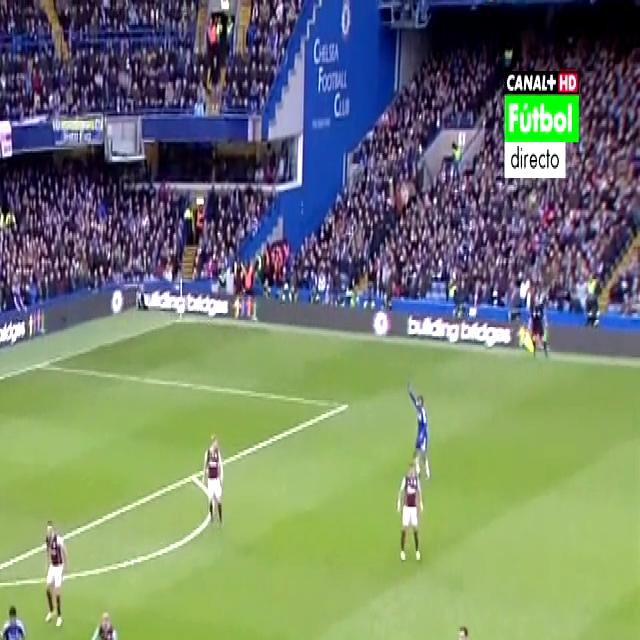referee: (524, 280, 551, 366)
soccer-player: (34, 505, 72, 638), (391, 458, 426, 574), (196, 423, 227, 537), (75, 592, 144, 640), (407, 382, 432, 488), (0, 590, 36, 640), (442, 613, 484, 640)
